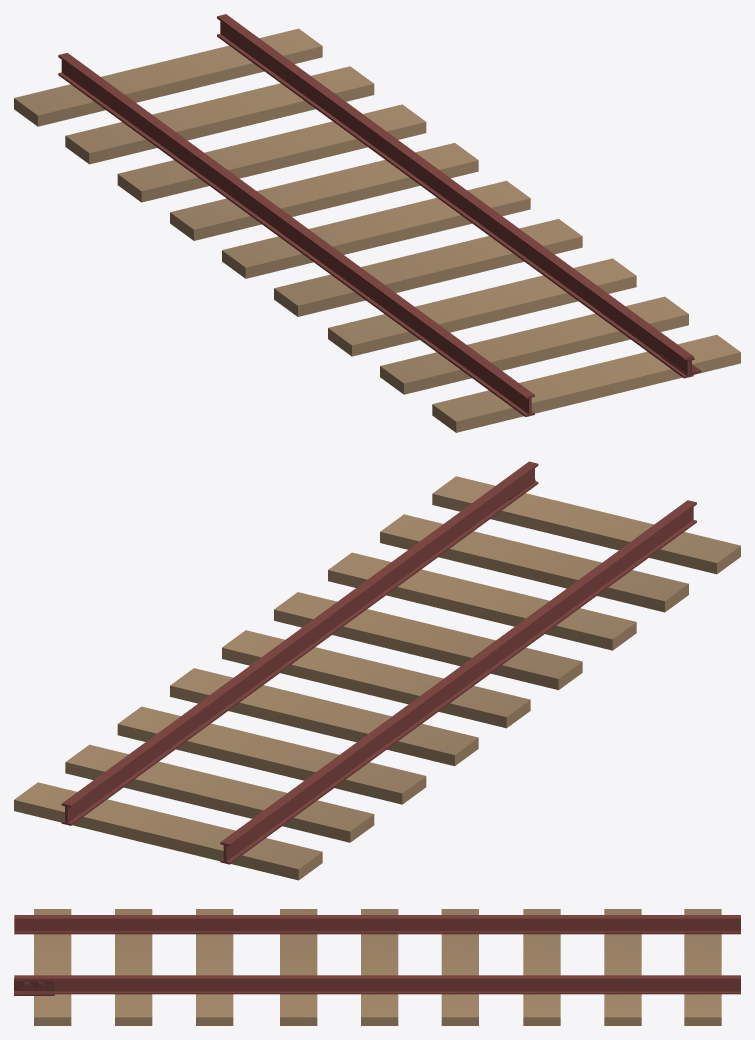
The model's file is traintracks.fbx.
The picture shows the model from 3 angles, top to bottom: view 1: azimuth 30°, elevation 25°; view 2: azimuth 150°, elevation 25°; view 3: azimuth 270°, elevation 25°; orthographic projection. The views are drawn at different scales.
Visible parts, largest first — view 1: polySurface1388, polySurface1403, polySurface1400, polySurface1385, polySurface1395, polySurface1396, polySurface1401, polySurface1399, polySurface1402, polySurface1398, polySurface1397; view 2: polySurface1388, polySurface1403, polySurface1396, polySurface1395, polySurface1385, polySurface1402, polySurface1401, polySurface1398, polySurface1400, polySurface1399, polySurface1397; view 3: polySurface1388, polySurface1403, polySurface1385, polySurface1395, polySurface1396, polySurface1399, polySurface1398, polySurface1397, polySurface1402, polySurface1401, polySurface1400, polySurface1390.
Boxes of the visible parts, left/top/right/bottom form: polySurface1388: left=58, top=53, right=534, bottom=416; polySurface1403: left=217, top=14, right=693, bottom=378; polySurface1400: left=432, top=334, right=740, bottom=432; polySurface1385: left=117, top=104, right=426, bottom=202; polySurface1395: left=65, top=66, right=374, bottom=164; polySurface1396: left=14, top=28, right=322, bottom=126; polySurface1401: left=380, top=296, right=688, bottom=394; polySurface1399: left=170, top=143, right=478, bottom=240; polySurface1402: left=328, top=258, right=636, bottom=356; polySurface1398: left=222, top=180, right=530, bottom=278; polySurface1397: left=274, top=219, right=582, bottom=316; polySurface1388: left=220, top=500, right=696, bottom=864; polySurface1403: left=61, top=461, right=538, bottom=825; polySurface1396: left=14, top=782, right=322, bottom=880; polySurface1395: left=65, top=744, right=374, bottom=842; polySurface1385: left=117, top=706, right=426, bottom=804; polySurface1402: left=328, top=552, right=636, bottom=650; polySurface1401: left=380, top=514, right=688, bottom=612; polySurface1398: left=222, top=630, right=530, bottom=728; polySurface1400: left=432, top=476, right=740, bottom=574; polySurface1399: left=170, top=668, right=478, bottom=766; polySurface1397: left=274, top=592, right=582, bottom=690; polySurface1388: left=14, top=915, right=740, bottom=934; polySurface1403: left=14, top=975, right=740, bottom=994; polySurface1385: left=523, top=909, right=560, bottom=1025; polySurface1395: left=604, top=909, right=641, bottom=1025; polySurface1396: left=684, top=909, right=721, bottom=1025; polySurface1399: left=441, top=909, right=478, bottom=1025; polySurface1398: left=361, top=909, right=398, bottom=1025; polySurface1397: left=280, top=909, right=317, bottom=1025; polySurface1402: left=196, top=909, right=233, bottom=1025; polySurface1401: left=115, top=909, right=152, bottom=1025; polySurface1400: left=34, top=909, right=71, bottom=1025; polySurface1390: left=14, top=978, right=54, bottom=995.
Size of the model in its own units: 47.63 by 5 by 135.
1 material, 1 textured.
